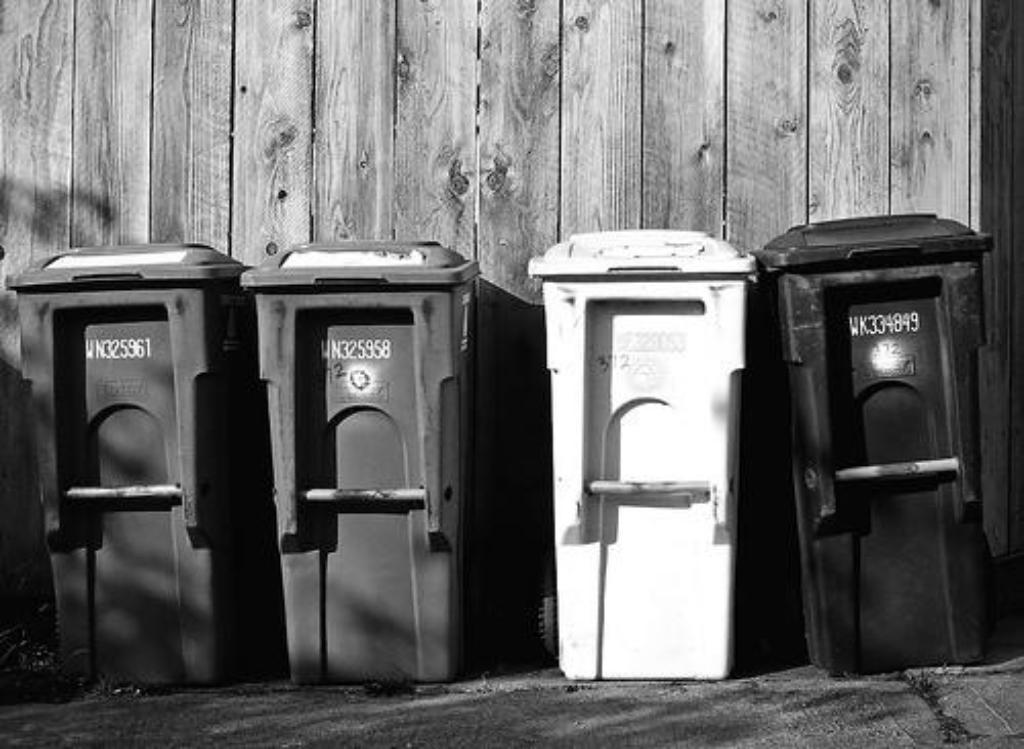dustbin: (766, 210, 1012, 675), (534, 214, 764, 691), (8, 244, 253, 687), (248, 238, 483, 684)
